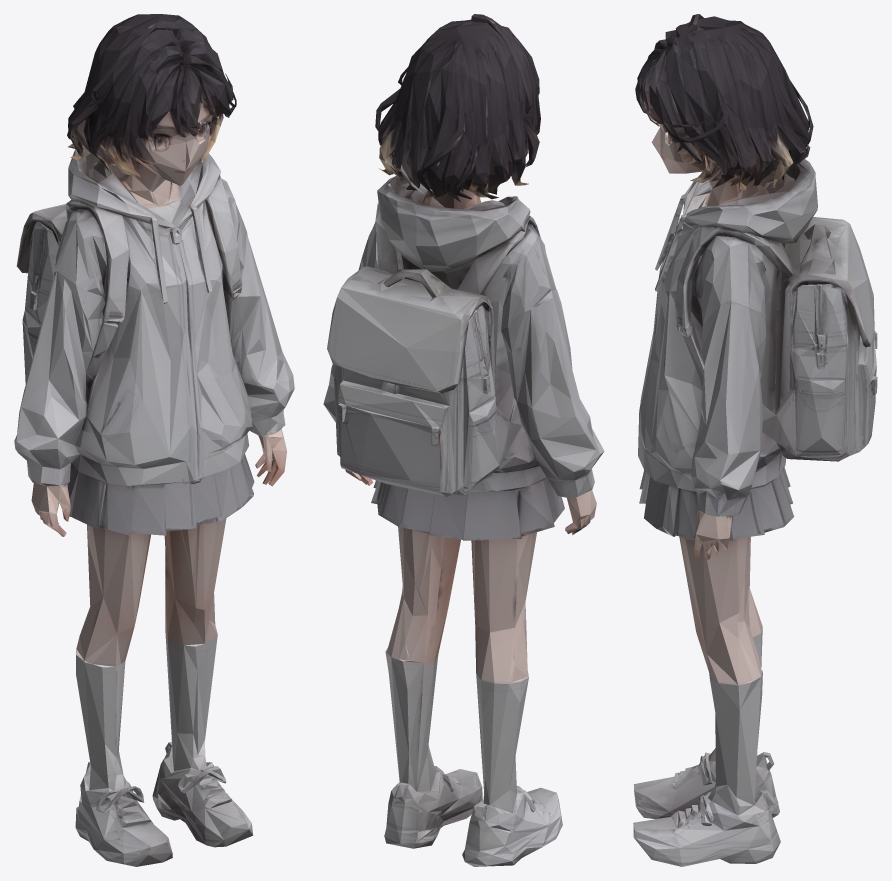
Rendered from person-b.glb.
3 renders of one model, left to right at view 1: azimuth 30°, elevation 25°; view 2: azimuth 150°, elevation 25°; view 3: azimuth 270°, elevation 25°, orthographic.
Bounding box in the file's own units: 0.4103 × 1.17 × 0.317.
1 material, 1 textured.
